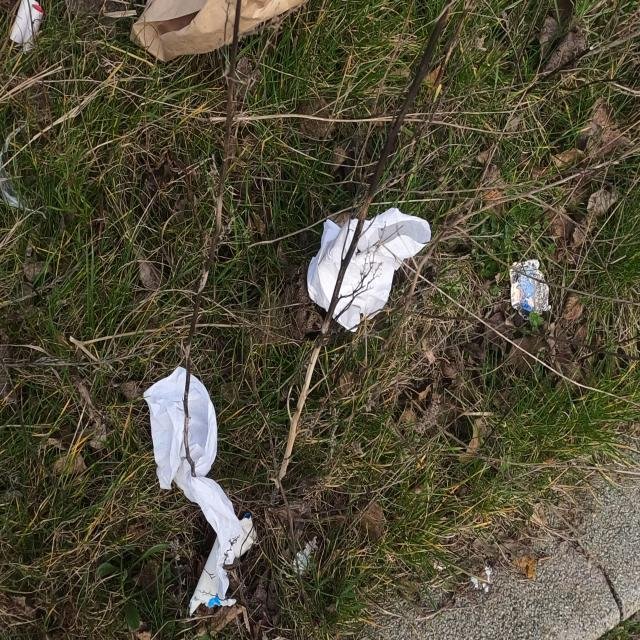Paper: (142, 366, 258, 618), (304, 204, 433, 336), (130, 0, 310, 65), (509, 258, 551, 320)
Plastic: (293, 535, 318, 578)
